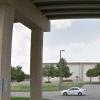Bridge: (7, 2, 91, 48)
